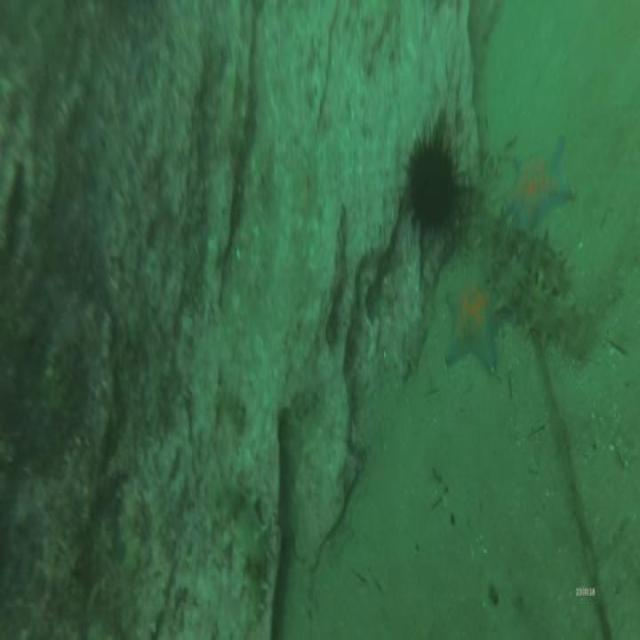echinus: (406, 141, 456, 229)
holothurian: (500, 261, 592, 362), (209, 482, 270, 629), (498, 210, 572, 297)
starfish: (442, 264, 506, 370), (508, 136, 574, 227)
